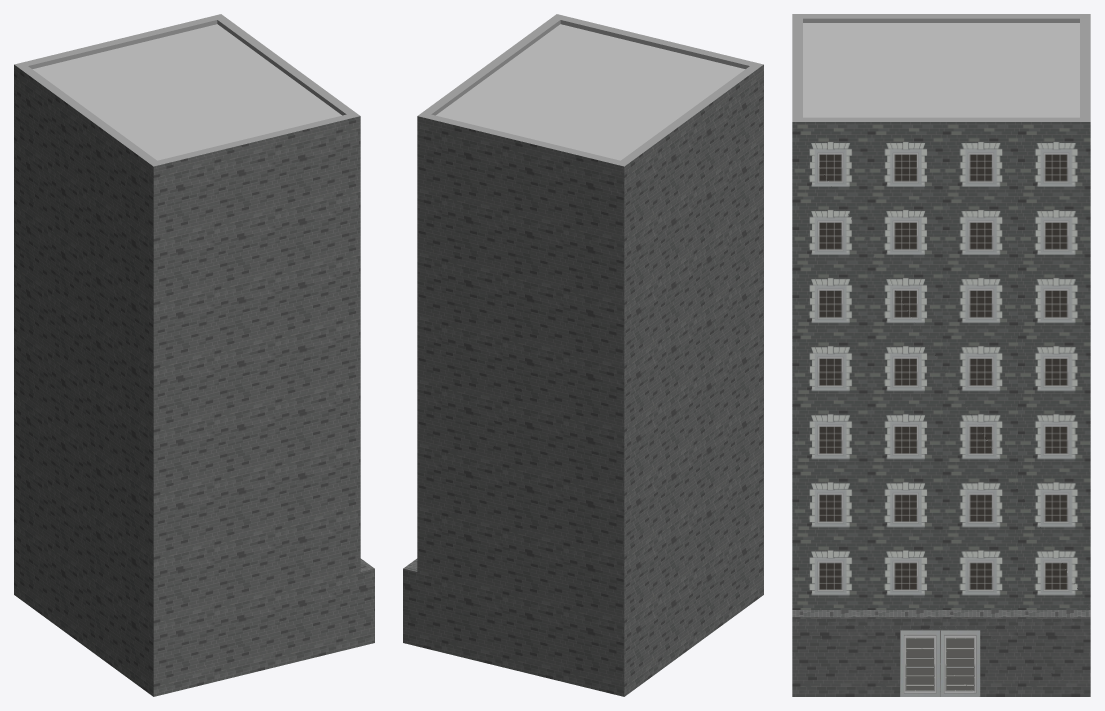
The model's file is buildings_2.dae.
3 renders of one model, left to right at view 1: azimuth 30°, elevation 25°; view 2: azimuth 150°, elevation 25°; view 3: azimuth 270°, elevation 25°, orthographic. The views are drawn at different scales.
Visible parts, largest first — view 1: SketchUp (×4); view 2: SketchUp (×4); view 3: SketchUp (×5), group_0.
Boxes of the visible parts, x1,y1,x2,y2 form: SketchUp (×4): [14, 14, 374, 696]; SketchUp (×4): [403, 14, 763, 696]; SketchUp (×5): [792, 14, 1090, 696]; group_0: [900, 630, 980, 696].
Bounding box in the file's own units: 42.91 × 46.85 × 98.3.
Materials: 5 (3 with a texture image).
